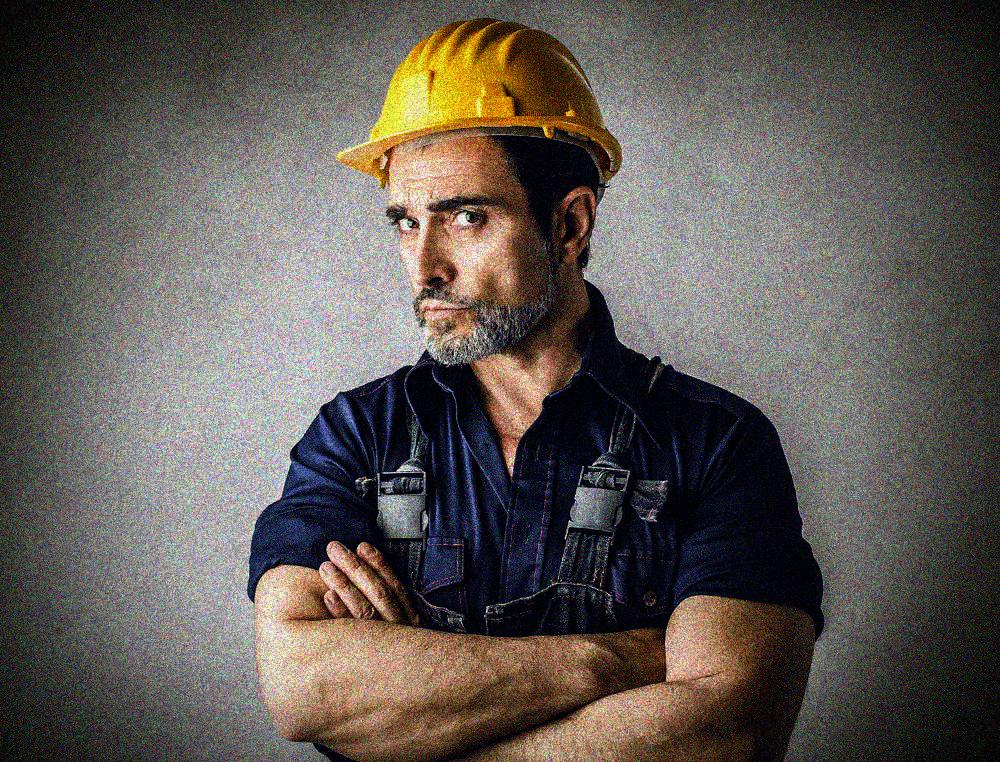helmet: (328, 16, 628, 367)
